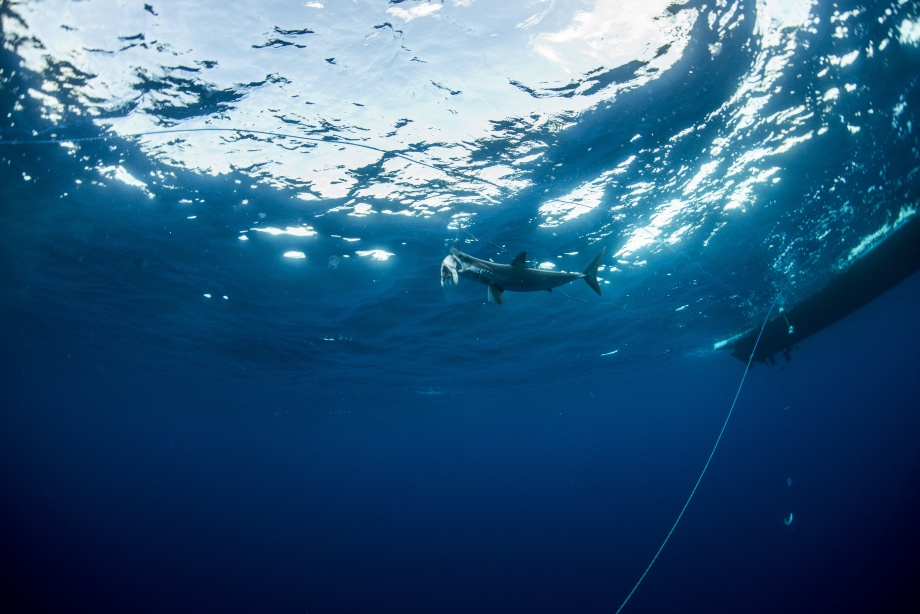Mako: (434, 229, 614, 317)
